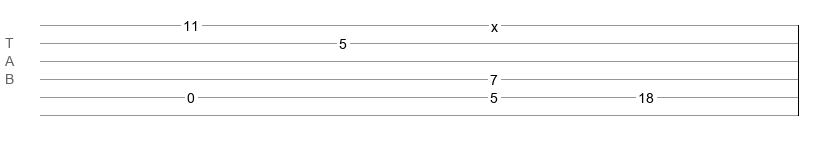0: (187, 90, 195, 100)
11: (183, 18, 199, 28)
18: (638, 90, 654, 100)
5: (339, 36, 347, 46), (490, 90, 498, 100)
7: (490, 72, 498, 82)
x: (491, 19, 498, 27)
